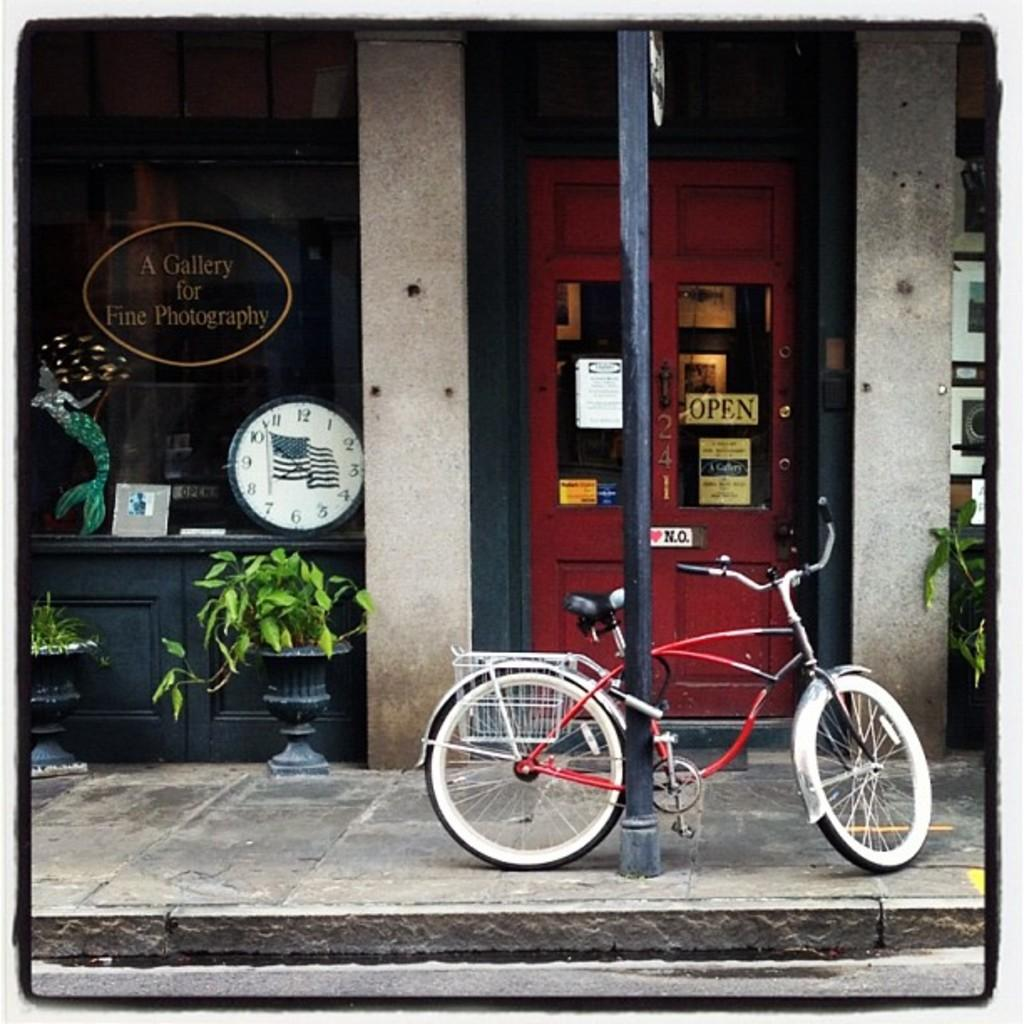Luggage-and-bags: (415, 495, 934, 875)
